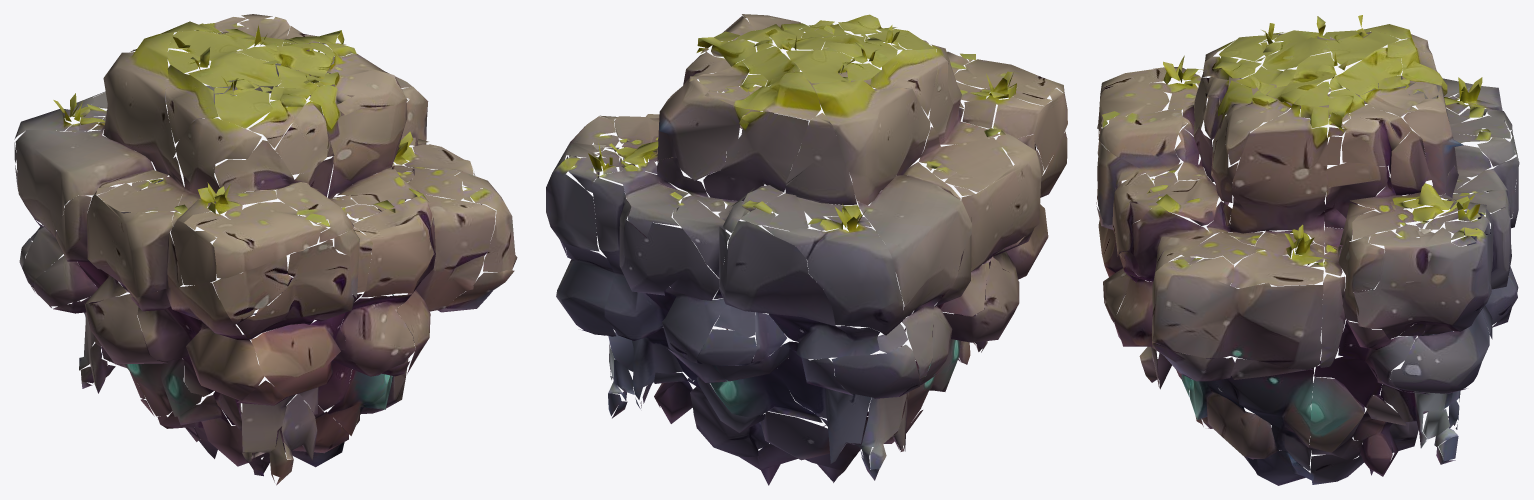
The model's file is rocha-flutuante.glb.
The picture shows the model from 3 angles, left to right: view 1: azimuth 30°, elevation 25°; view 2: azimuth 150°, elevation 25°; view 3: azimuth 270°, elevation 25°; orthographic projection. The views are drawn at different scales.
Parts seen in each view (by area): view 1: tripo_node_2557fef9-a03a-439e-8c89-4ef6f9de52f3; view 2: tripo_node_2557fef9-a03a-439e-8c89-4ef6f9de52f3; view 3: tripo_node_2557fef9-a03a-439e-8c89-4ef6f9de52f3.
Boxes of the visible parts, x1=… form: tripo_node_2557fef9-a03a-439e-8c89-4ef6f9de52f3: x1=14, y1=14, x2=517, y2=485; tripo_node_2557fef9-a03a-439e-8c89-4ef6f9de52f3: x1=546, y1=14, x2=1067, y2=485; tripo_node_2557fef9-a03a-439e-8c89-4ef6f9de52f3: x1=1096, y1=15, x2=1519, y2=485.
Size of the model in its own units: 0.8873 by 0.9999 by 0.8927.
Materials: 1 (1 with a texture image).
